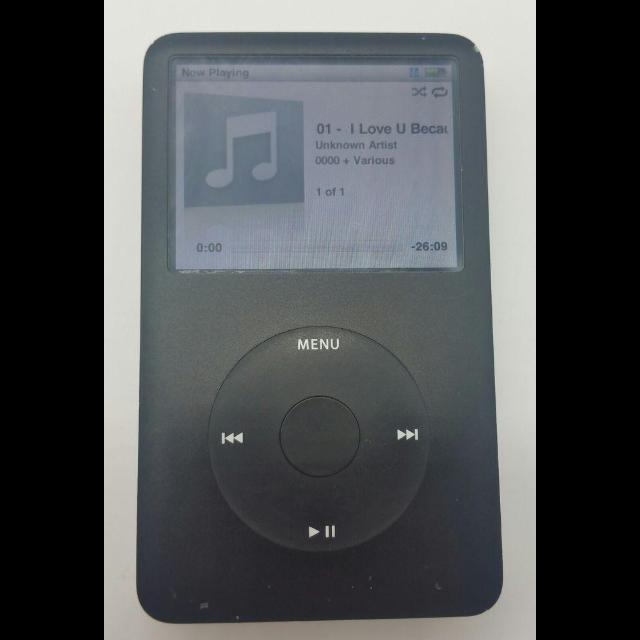Music-Player: (130, 24, 507, 632)
